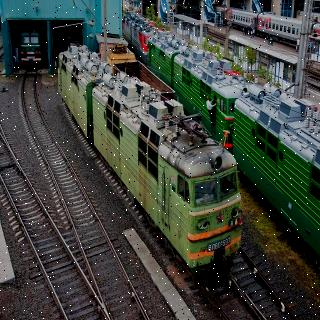poezd: (60, 50, 238, 275), (123, 13, 153, 60), (22, 30, 43, 69)
